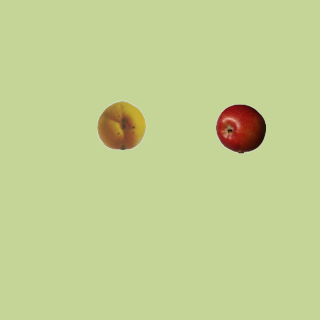Apple Braeburn: (215, 103, 265, 153)
Peach 2: (96, 99, 146, 149)
